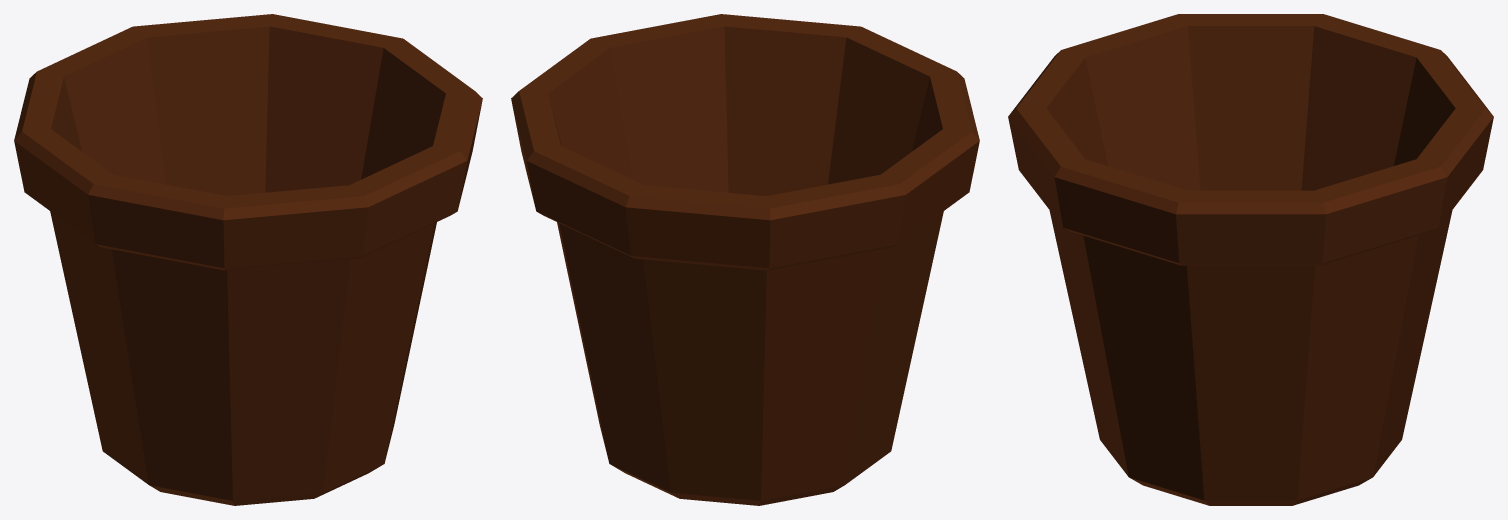
File: PlantPot.fbx
The picture shows the model from 3 angles, left to right: view 1: azimuth 30°, elevation 25°; view 2: azimuth 150°, elevation 25°; view 3: azimuth 270°, elevation 25°; orthographic projection.
Parts seen in each view (by area): view 1: Cylinder; view 2: Cylinder; view 3: Cylinder.
Part boxes in pixels (x1,y1,x2,y2): Cylinder: (14,14,482,505); Cylinder: (511,14,979,505); Cylinder: (1008,14,1493,505).
Bounding box in the file's own units: 16.44 × 13.5 × 17.28.
